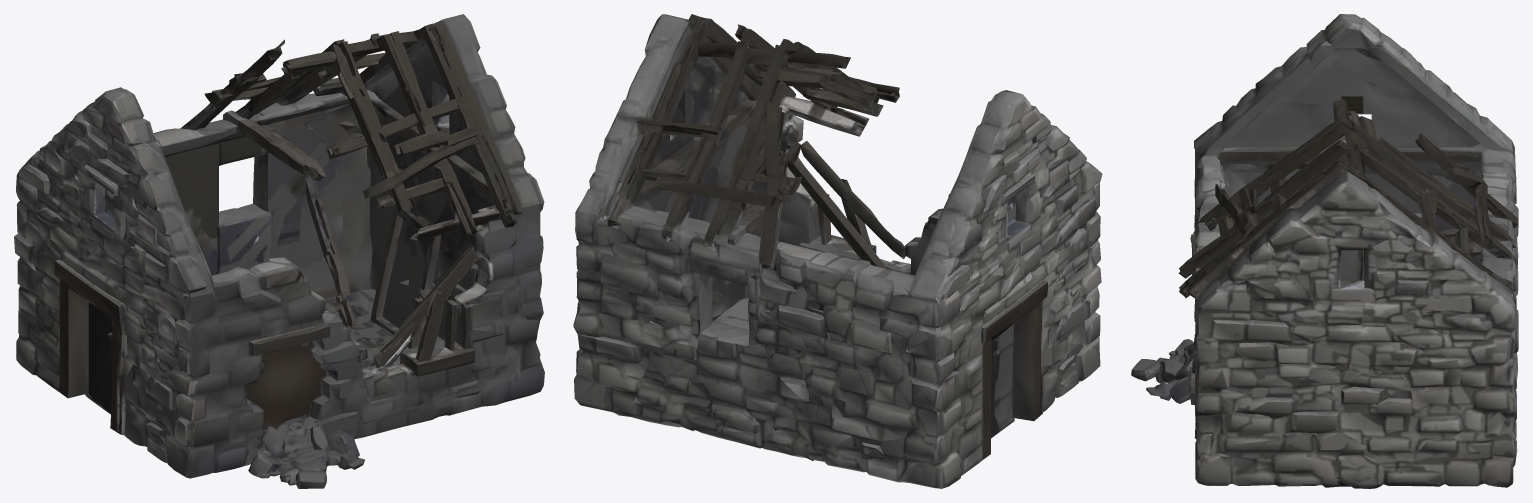
The model's file is derelict_farmhouse.glb.
3 views of the same model, side by side, from view 1: azimuth 30°, elevation 25°; view 2: azimuth 150°, elevation 25°; view 3: azimuth 270°, elevation 25° (orthographic). The views are drawn at different scales.
Parts seen in each view (by area): view 1: geometry_0; view 2: geometry_0; view 3: geometry_0.
Boxes of the visible parts, x1,y1,x2,y2 form: geometry_0: (14, 14, 544, 488); geometry_0: (573, 14, 1102, 488); geometry_0: (1131, 14, 1518, 488).
Size of the model in its own units: 4.5 by 3.91 by 4.31.
Materials: 1 (1 with a texture image).
